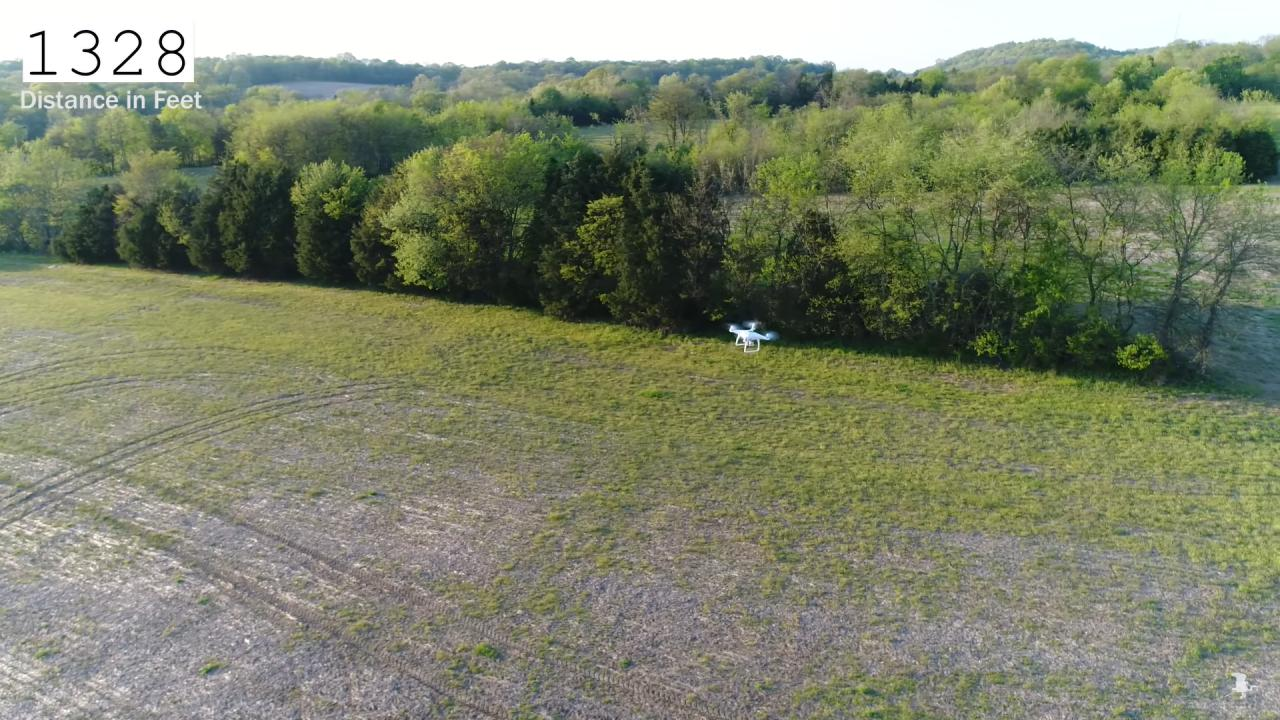Drone: (719, 310, 788, 362)
